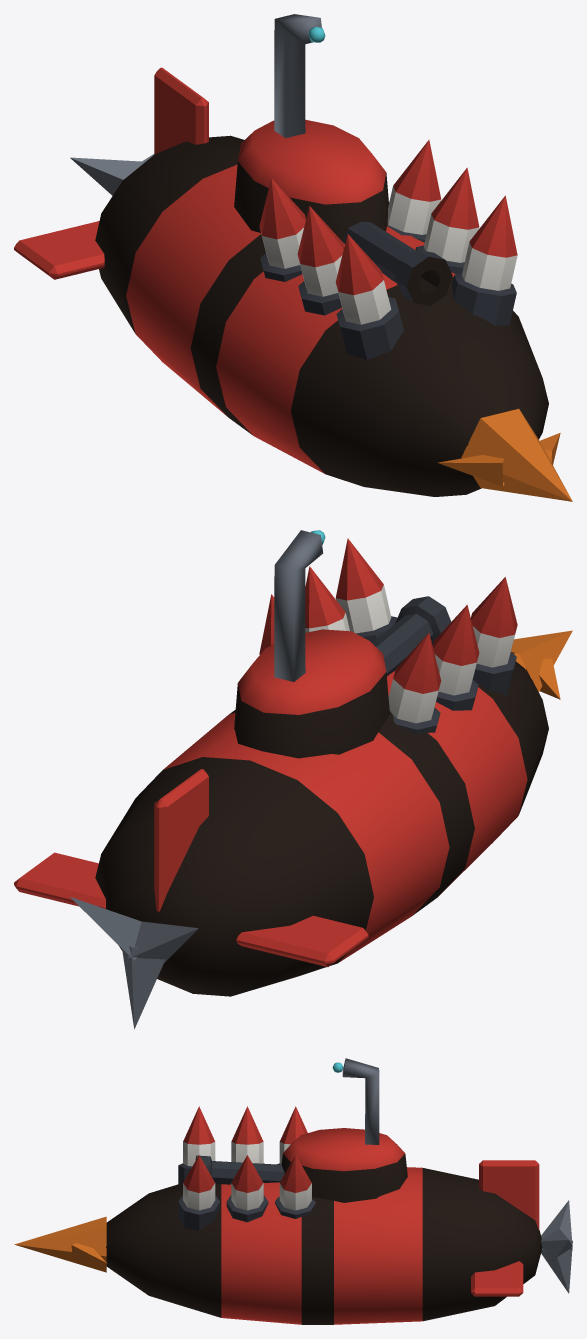
3 views of the same model, one above another, from view 1: azimuth 30°, elevation 25°; view 2: azimuth 150°, elevation 25°; view 3: azimuth 270°, elevation 25° (orthographic). The views are drawn at different scales.
Visible parts, largest first — view 1: submarino_0_base, submarino_1_torreta; view 2: submarino_0_base, submarino_1_torreta; view 3: submarino_0_base, submarino_1_torreta.
Part boxes in pixels (<box>): submarino_0_base: <box>14,67,572,501</box>; submarino_1_torreta: <box>234,14,452,305</box>; submarino_0_base: <box>14,538,572,1029</box>; submarino_1_torreta: <box>234,530,451,758</box>; submarino_0_base: <box>14,1106,572,1324</box>; submarino_1_torreta: <box>195,1058,407,1202</box>.
Bounding box in the file's own units: 0.58 × 0.6953 × 1.39.
